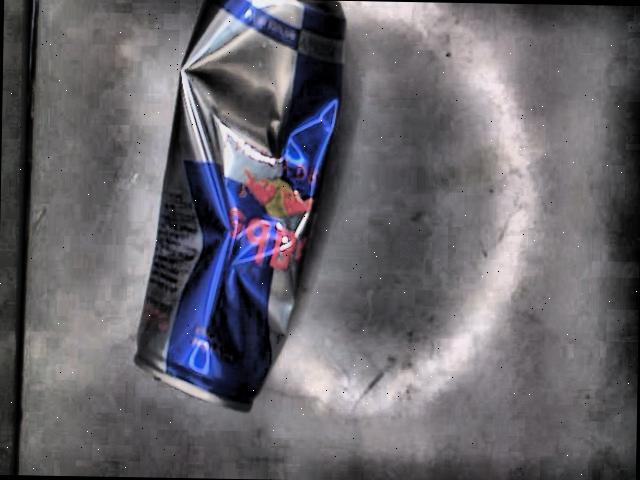Bottles: (135, 0, 346, 414)
